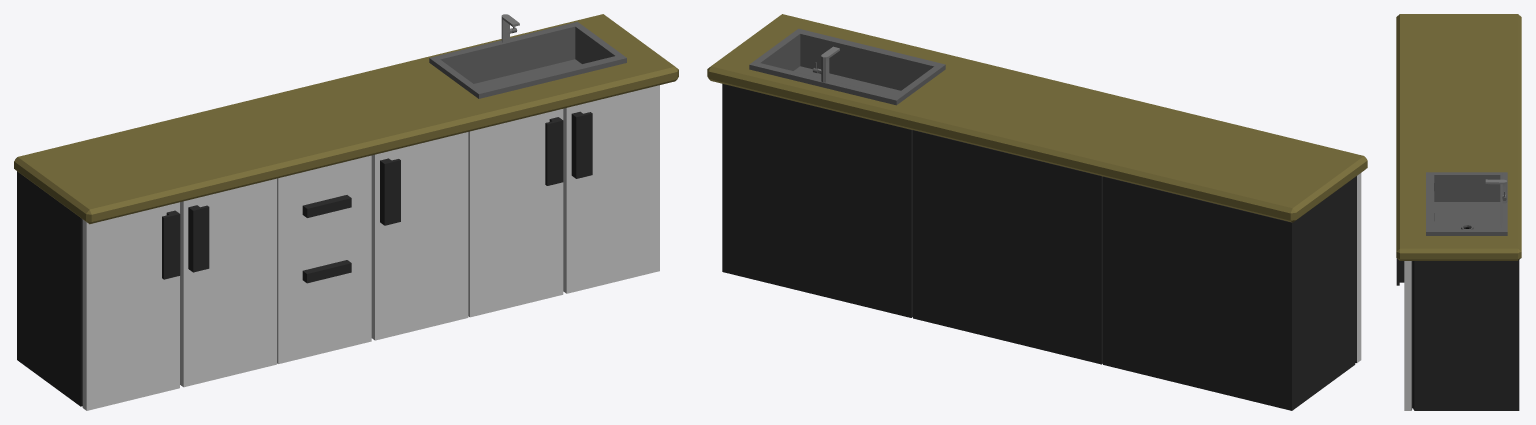
Rendered from Cabinet.fbx.
3 views of the same model, side by side, from view 1: azimuth 30°, elevation 25°; view 2: azimuth 150°, elevation 25°; view 3: azimuth 270°, elevation 25° (orthographic). The views are drawn at different scales.
Parts seen in each view (by area): view 1: pCube6; view 2: pCube6; view 3: pCube6.
Part boxes in pixels (box(x1,y1,x2,y2)): pCube6: box(14, 14, 678, 410); pCube6: box(707, 14, 1367, 410); pCube6: box(1396, 14, 1521, 410).
Bounding box in the file's own units: 11.39 × 4.3 × 2.53.
